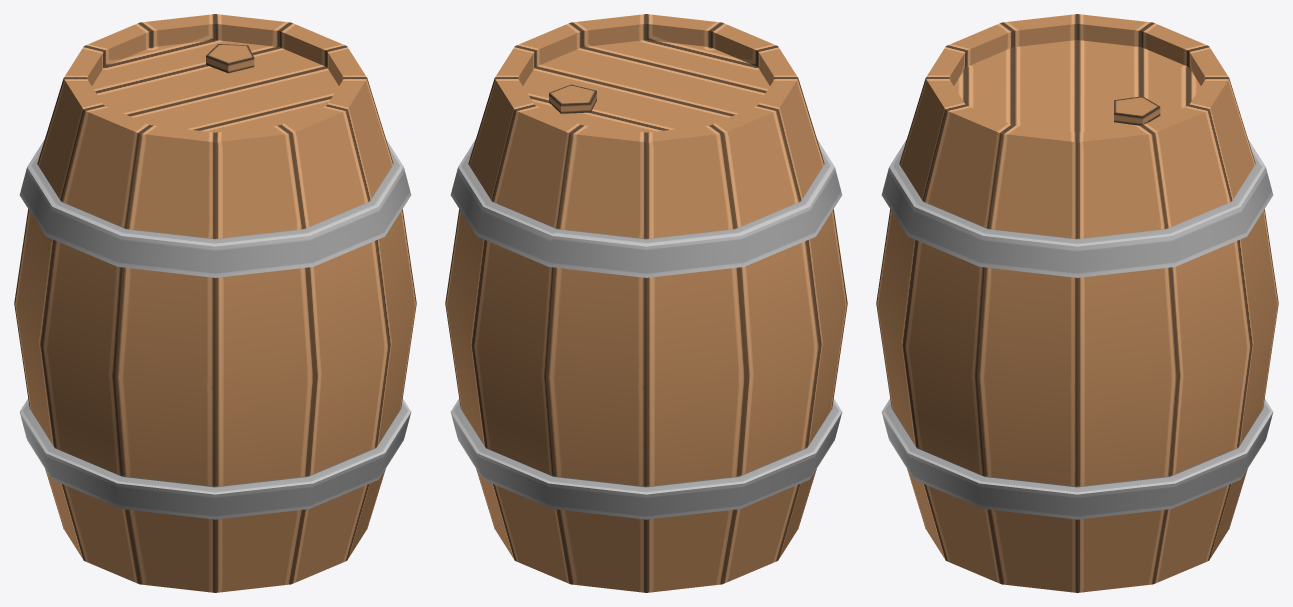
Rendered from lowpolybarrel.fbx.
3 renders of one model, left to right at view 1: azimuth 30°, elevation 25°; view 2: azimuth 150°, elevation 25°; view 3: azimuth 270°, elevation 25°, orthographic.
Parts seen in each view (by area): view 1: Barrel; view 2: Barrel; view 3: Barrel.
Part boxes in pixels (x1=…): Barrel: x1=14, y1=14, x2=416, y2=592; Barrel: x1=445, y1=14, x2=847, y2=592; Barrel: x1=876, y1=14, x2=1278, y2=592.
Size of the model in its own units: 72.88 by 90 by 72.88.
